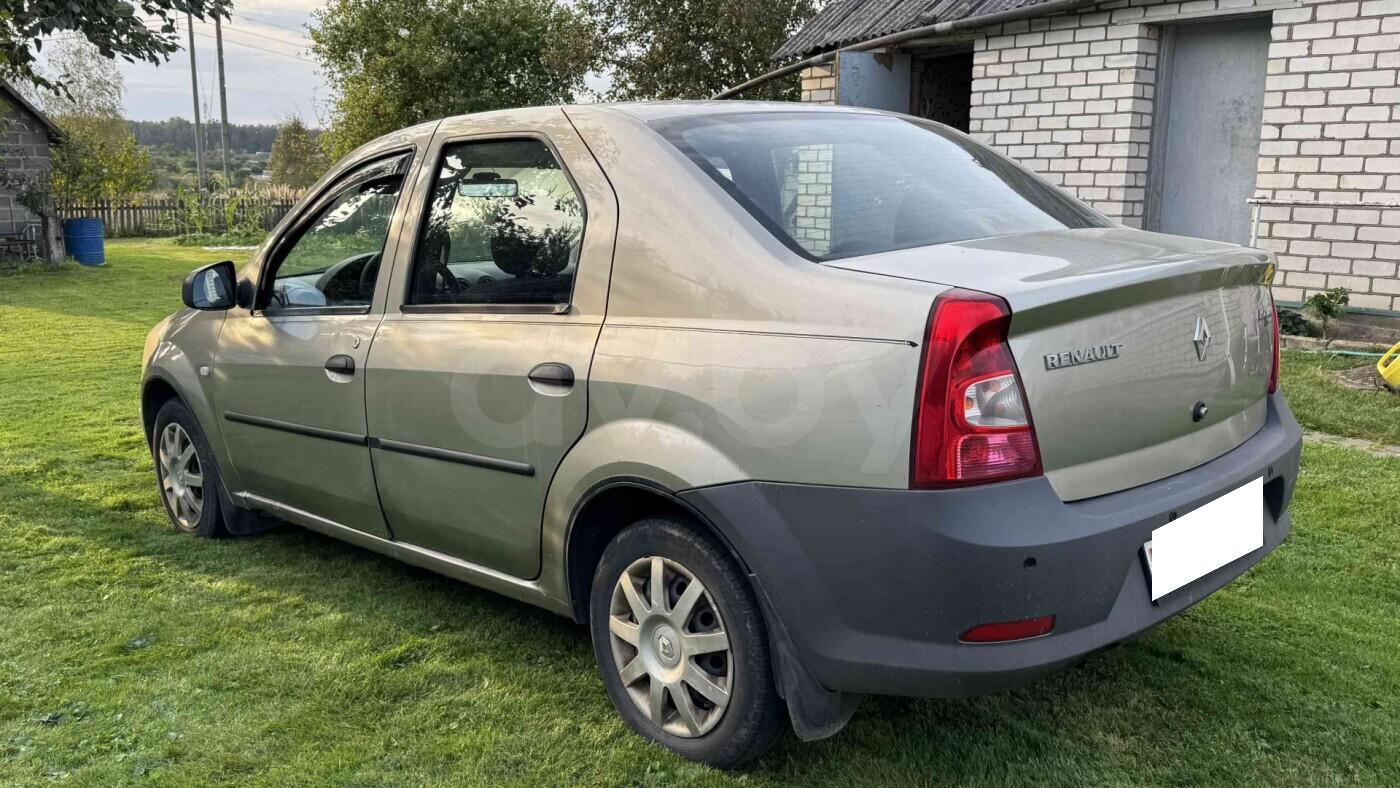Logan_2008-2015: (137, 102, 1302, 776)
